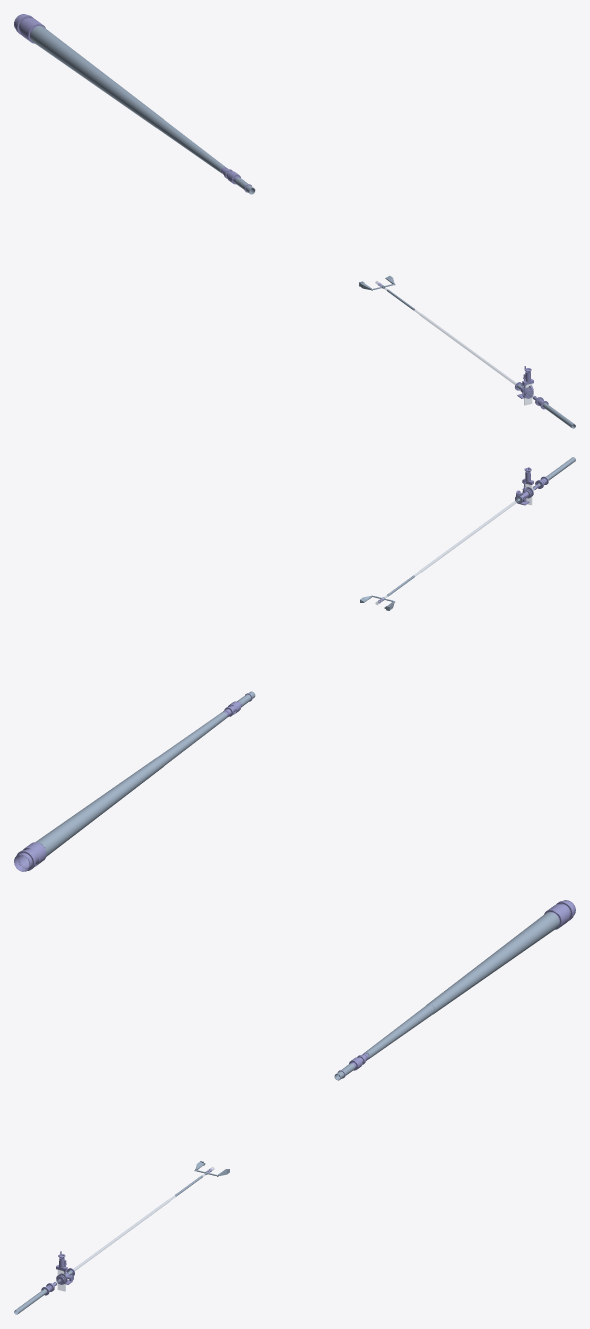
3 renders of one model, top to bottom at view 1: azimuth 30°, elevation 25°; view 2: azimuth 150°, elevation 25°; view 3: azimuth 330°, elevation 25°, orthographic.
Parts seen in each view (by area): view 1: object 2, object 3; view 2: object 2, object 3, object 1; view 3: object 2, object 3, object 1.
Part boxes in pixels (box(x1,y1,x2,y2)): object 2: box(30, 26, 575, 428); object 3: box(14, 14, 547, 408); object 2: box(35, 457, 575, 856); object 3: box(14, 467, 538, 871); object 1: box(24, 483, 540, 864); object 2: box(14, 912, 559, 1314); object 3: box(42, 900, 575, 1294); object 1: box(53, 1167, 214, 1291).
Size of the model in its own units: 59.25 by 70.7 by 1876.
